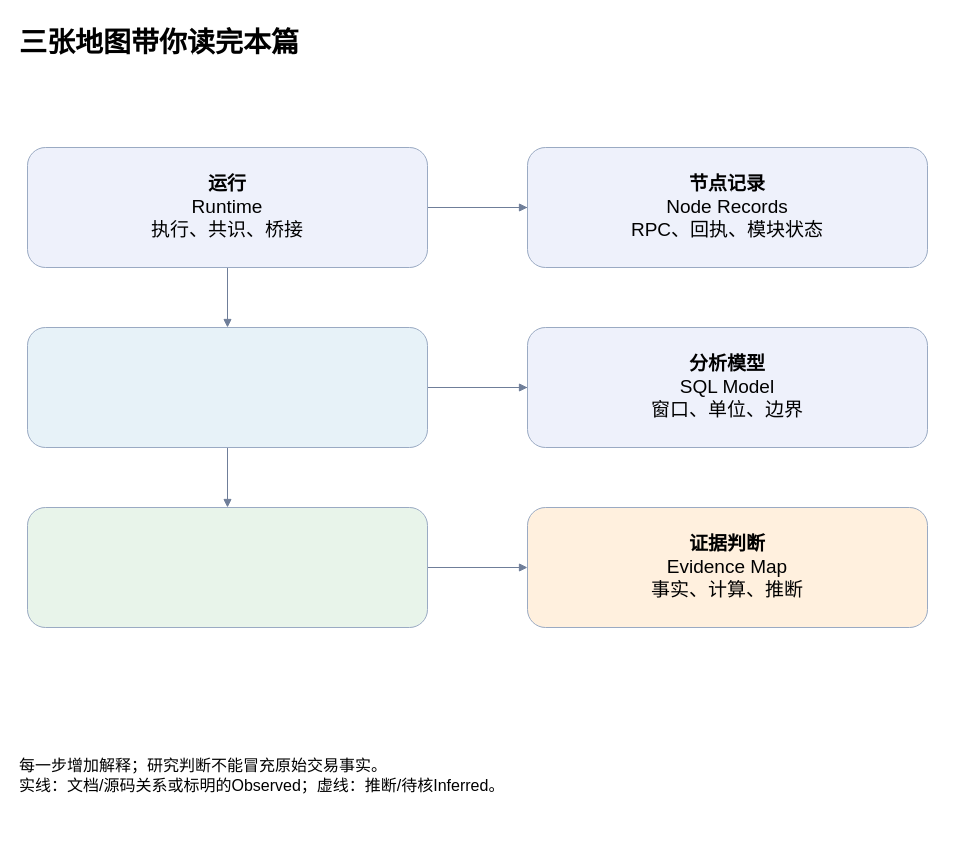
Some shapes in this 954 by 849 pixel diagram are drawn without their labels. Here are the shapes that lost their labels. From the top down, the centre of each, then its label:
the point at 227,387: 数据仓库 Raw / Decoded / Curated 不同转换与粒度
the point at 227,567: 资金地图 Fund Flow Map 资产与合约路径
